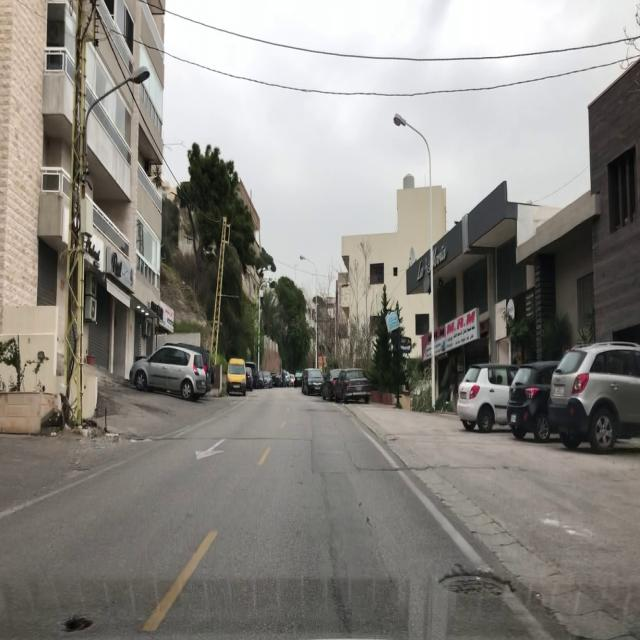Pothole: (438, 567, 514, 600), (62, 613, 94, 635)
